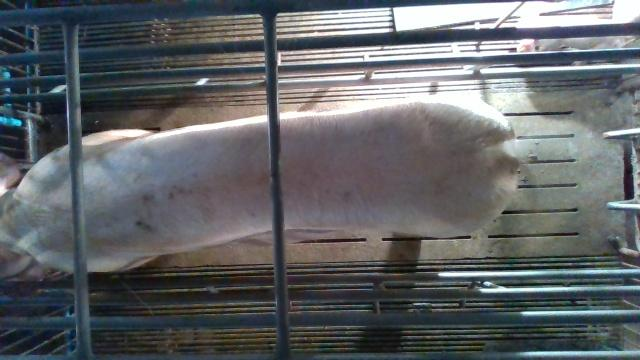sow-stand-feed: (0, 97, 521, 275)
